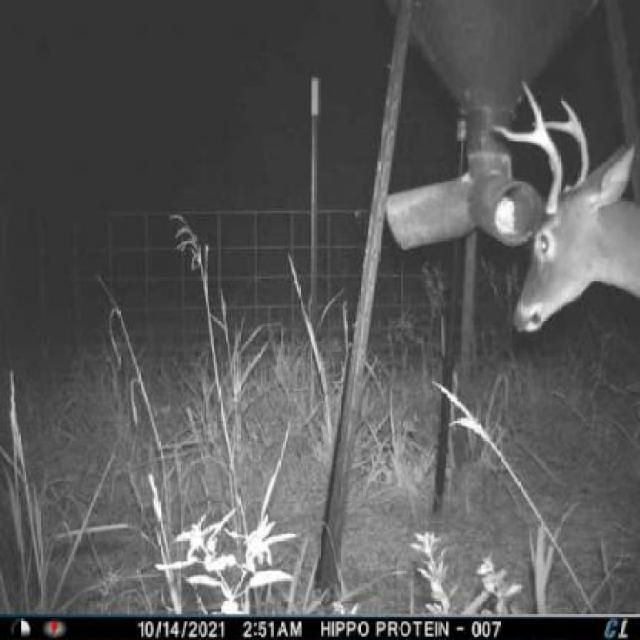Deer: (490, 69, 639, 354)
